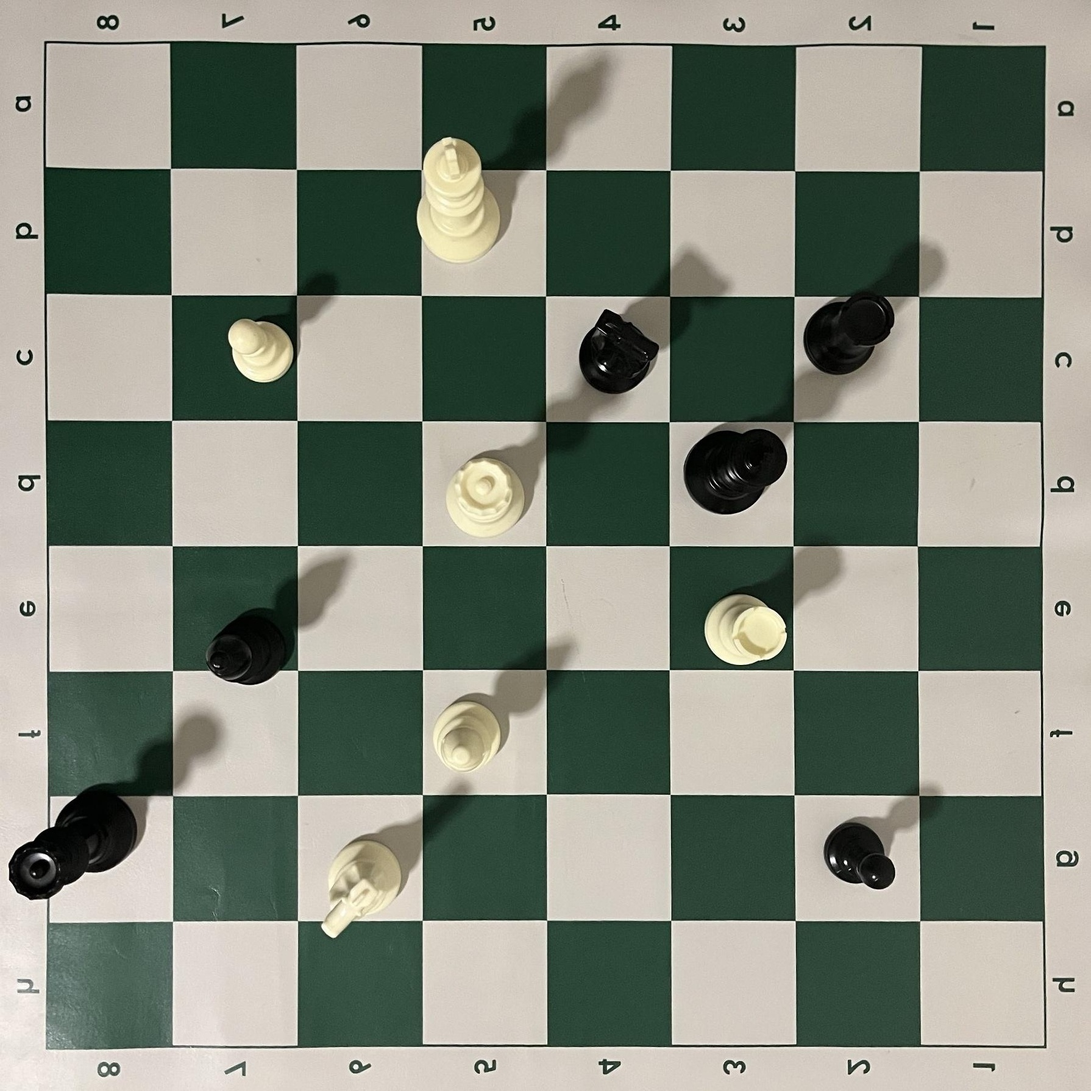black_bishop: (205, 606, 291, 688)
black_king: (683, 427, 788, 516)
black_knight: (578, 308, 659, 395)
black_pawn: (823, 821, 897, 891)
black_queen: (9, 783, 139, 900)
black_rook: (803, 291, 895, 375)
white_bishop: (432, 696, 505, 774)
white_king: (416, 137, 502, 265)
white_knight: (321, 836, 403, 940)
white_pawn: (227, 318, 295, 383)
white_queen: (445, 455, 525, 539)
white_rook: (703, 592, 788, 666)
